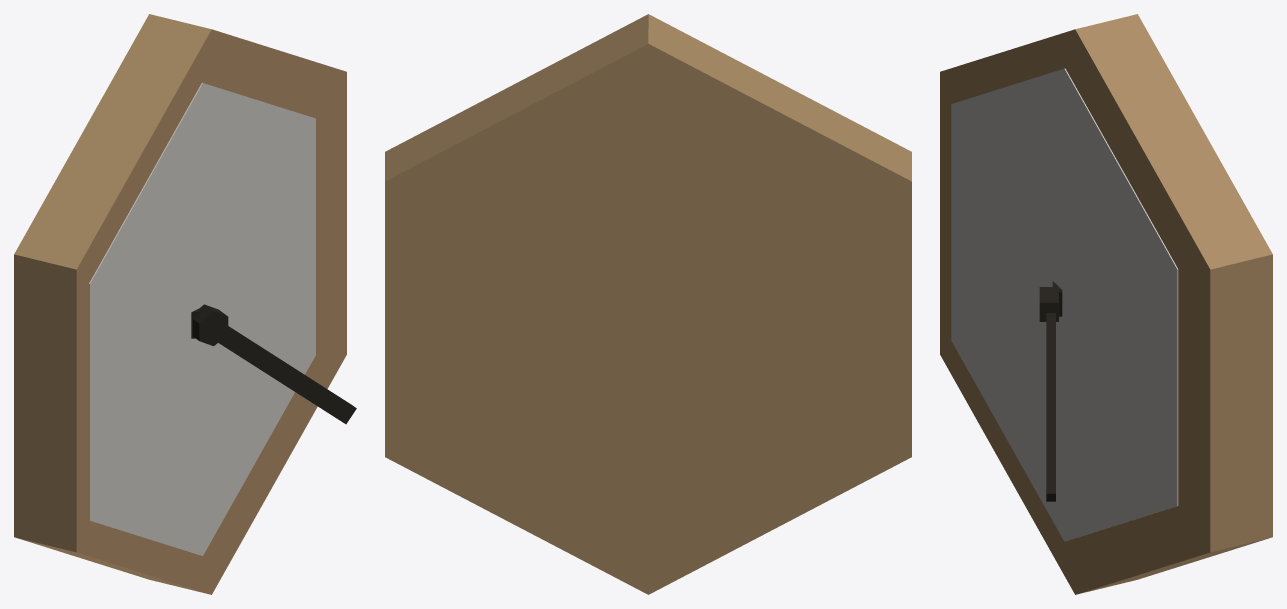
Rendered from wall-clock-36.glb.
3 renders of one model, left to right at view 1: azimuth 30°, elevation 25°; view 2: azimuth 150°, elevation 25°; view 3: azimuth 270°, elevation 25°, orthographic. The views are drawn at different scales.
Visible parts, largest first — view 1: wall_clock_36; view 2: wall_clock_36; view 3: wall_clock_36.
Part boxes in pixels (bbox=[...]): wall_clock_36: bbox=[14, 14, 356, 594]; wall_clock_36: bbox=[385, 14, 911, 594]; wall_clock_36: bbox=[940, 14, 1272, 594].
Bounding box in the file's own units: 0.3134 × 0.3879 × 0.2069.
